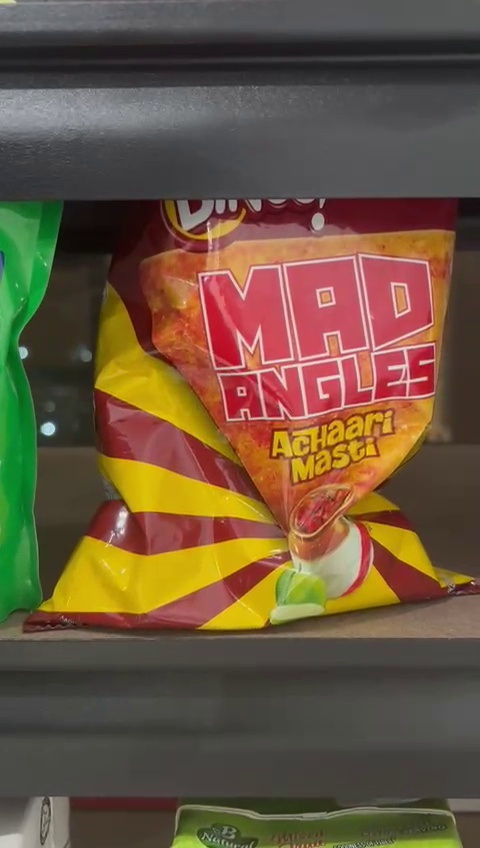Bingo Mad Angles: (96, 200, 455, 615)
